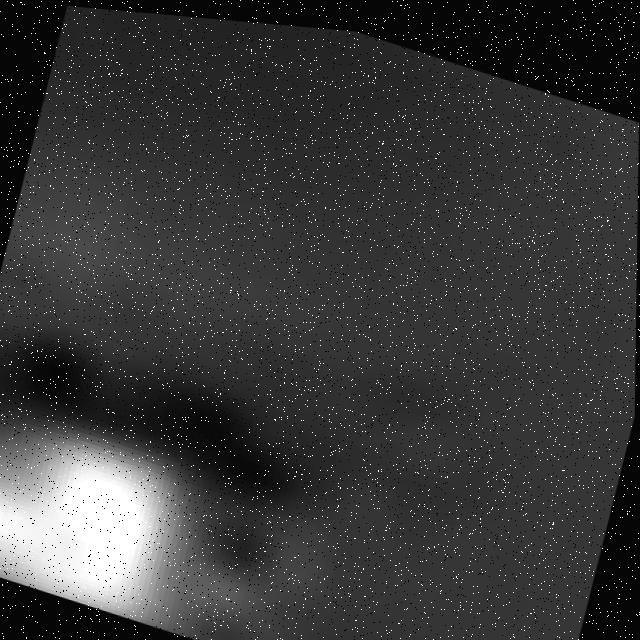person: (1, 395, 341, 640)
